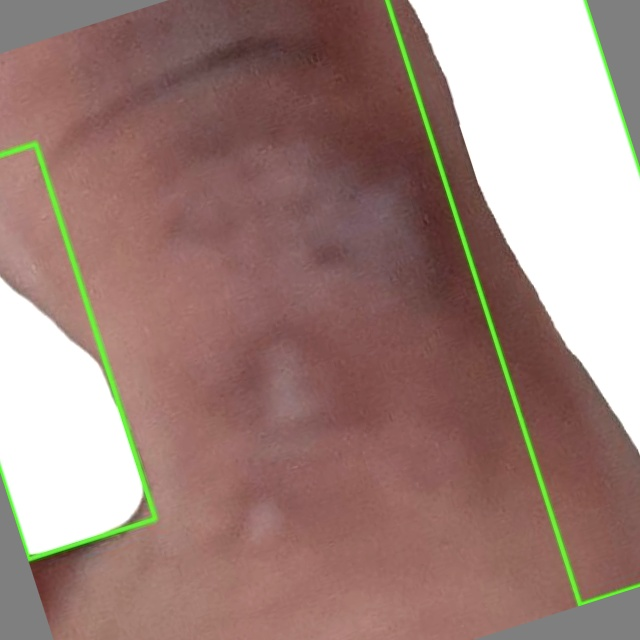Contact Dermatitis: (387, 0, 639, 605), (0, 144, 155, 559)
